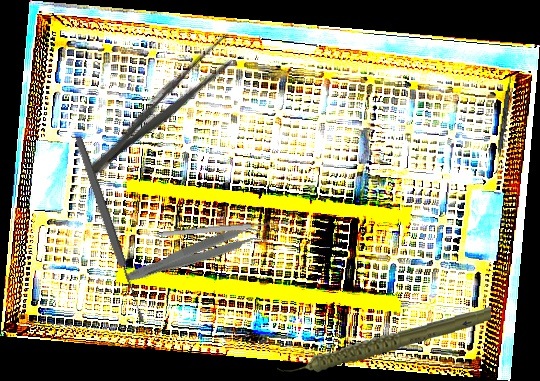Dressing Forceps: (79, 27, 247, 188)
Handpiece: (274, 305, 494, 376)
Spatula Surgical: (494, 73, 513, 175)
Surgical Spoon: (72, 135, 148, 324), (160, 219, 291, 238)
Tissue Forceps: (123, 218, 269, 293)
